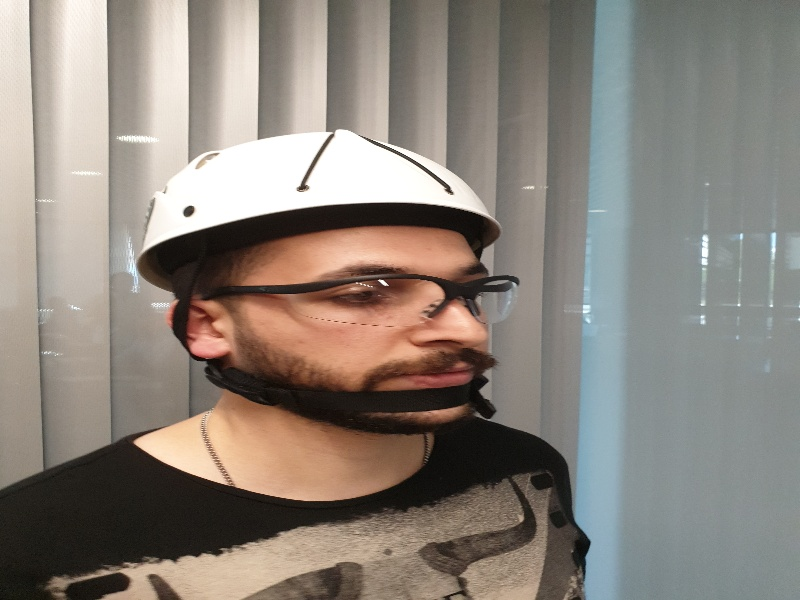Baret: (143, 130, 499, 244)
Gozluk: (209, 275, 522, 327)
